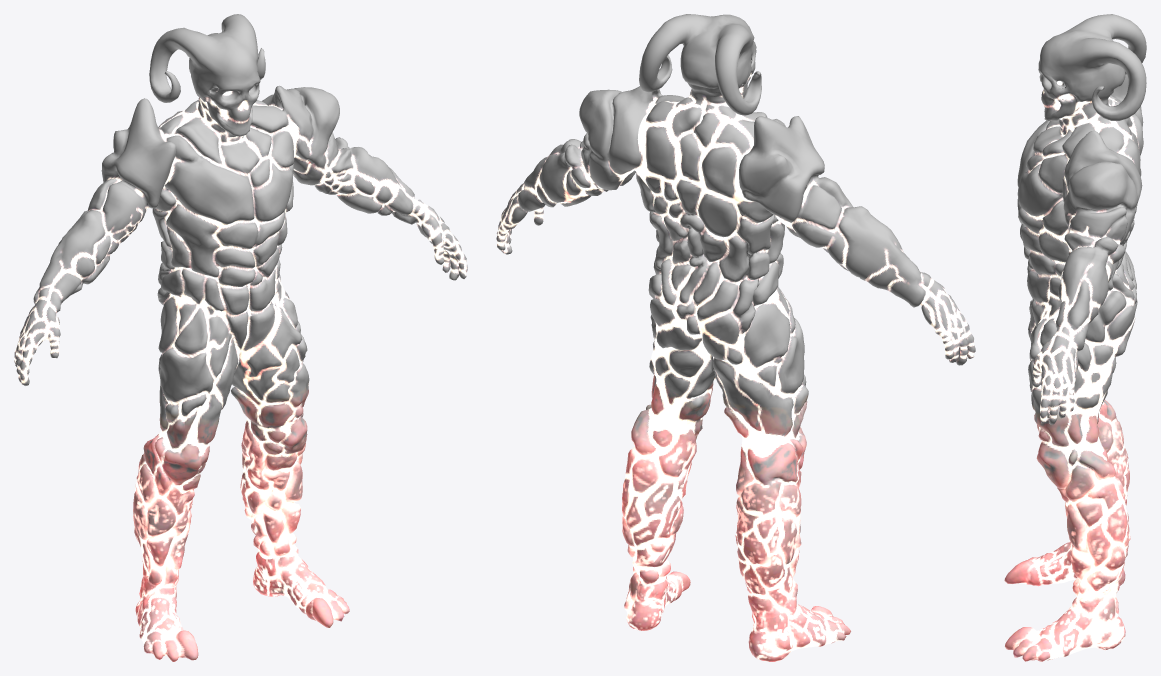
The model's file is MANGKUKULAM.fbx.
3 views of the same model, side by side, from view 1: azimuth 30°, elevation 25°; view 2: azimuth 150°, elevation 25°; view 3: azimuth 270°, elevation 25° (orthographic). The views are drawn at different scales.
Visible parts, largest first — view 1: defaultMaterial; view 2: defaultMaterial; view 3: defaultMaterial.
Boxes of the visible parts, x1,y1,x2,y2 form: defaultMaterial: (14, 14, 467, 661); defaultMaterial: (496, 14, 975, 661); defaultMaterial: (1004, 14, 1146, 661).
Size of the model in its own units: 309 by 387 by 84.54.
